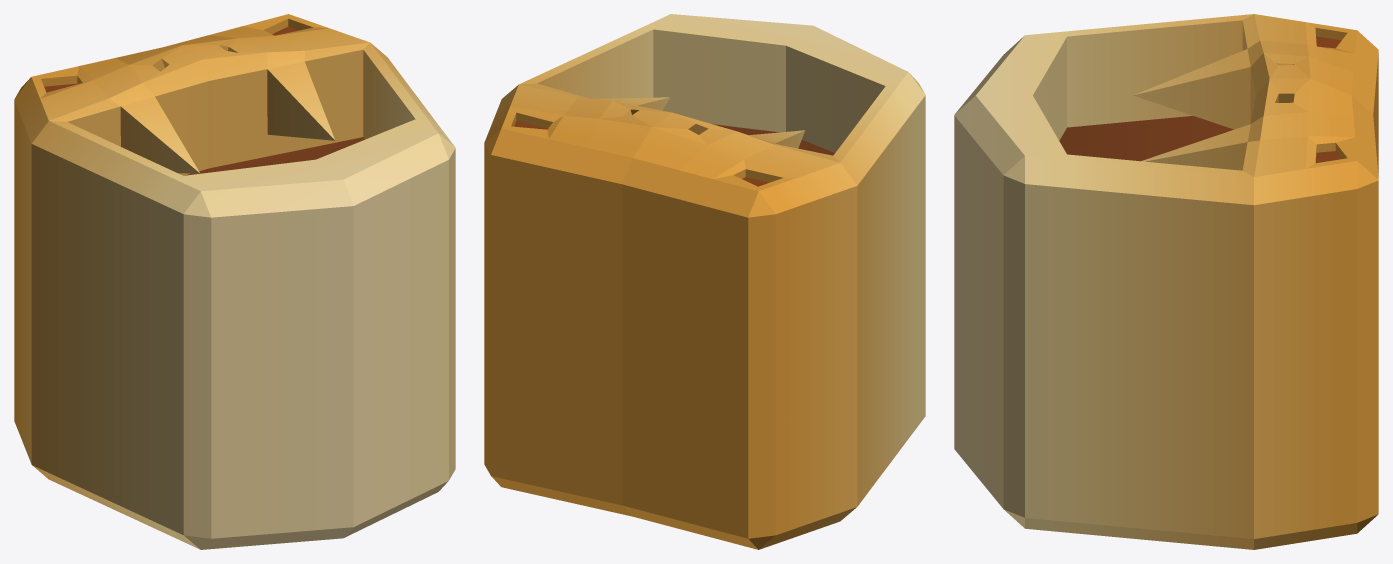
File: Tile_Snake_Head.fbx
3 views of the same model, side by side, from view 1: azimuth 30°, elevation 25°; view 2: azimuth 150°, elevation 25°; view 3: azimuth 270°, elevation 25° (orthographic). The views are drawn at different scales.
Parts seen in each view (by area): view 1: Snake Tile; view 2: Snake Tile; view 3: Snake Tile.
Part boxes in pixels (x1,y1,x2,y2): Snake Tile: (14,14,455,549); Snake Tile: (484,14,925,549); Snake Tile: (954,14,1378,549).
Size of the model in its own units: 0.9916 by 0.9994 by 0.986.
Materials: 1 (1 with a texture image).
